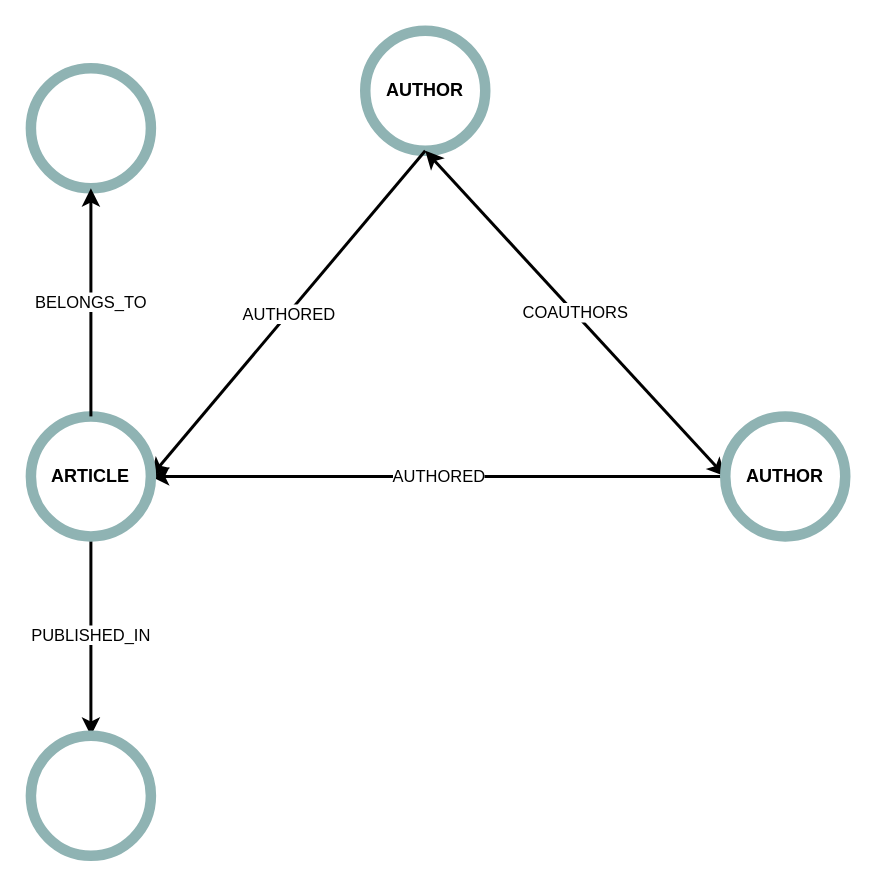
The diagram is 876 pixels wide and 887 high, and some of its shapes have lost their labels. Each missing label, with the centre of its shape:
"CATEGORY" belongs at pixel 90 127.
"JOURNAL" belongs at pixel 90 795.
